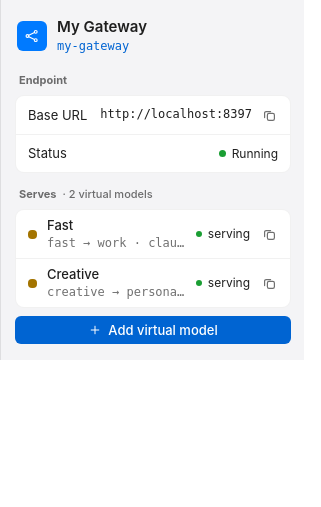
Test: a gateway already serving offers to add another virtual model
Click the button "Add virtual model" at x=153, y=330, box [15,316,291,344]
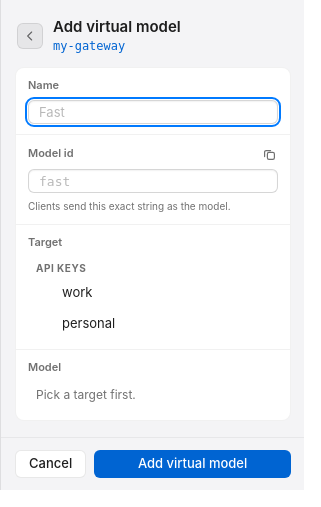
expect the field labelled "Name" is shown: met, box [28,100,278,124]
